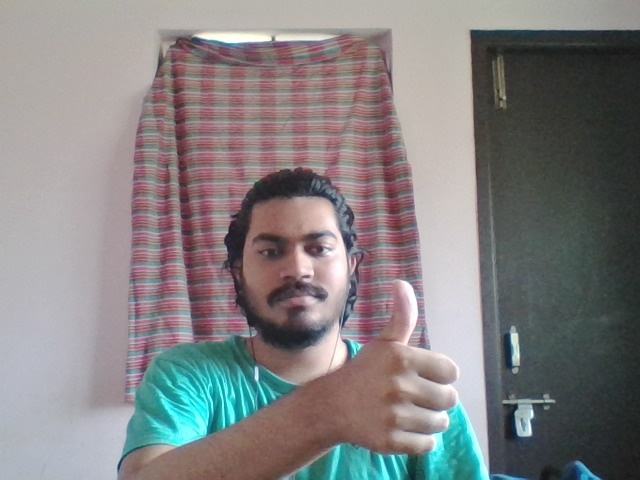ThumbsUp: (348, 279, 460, 456)
